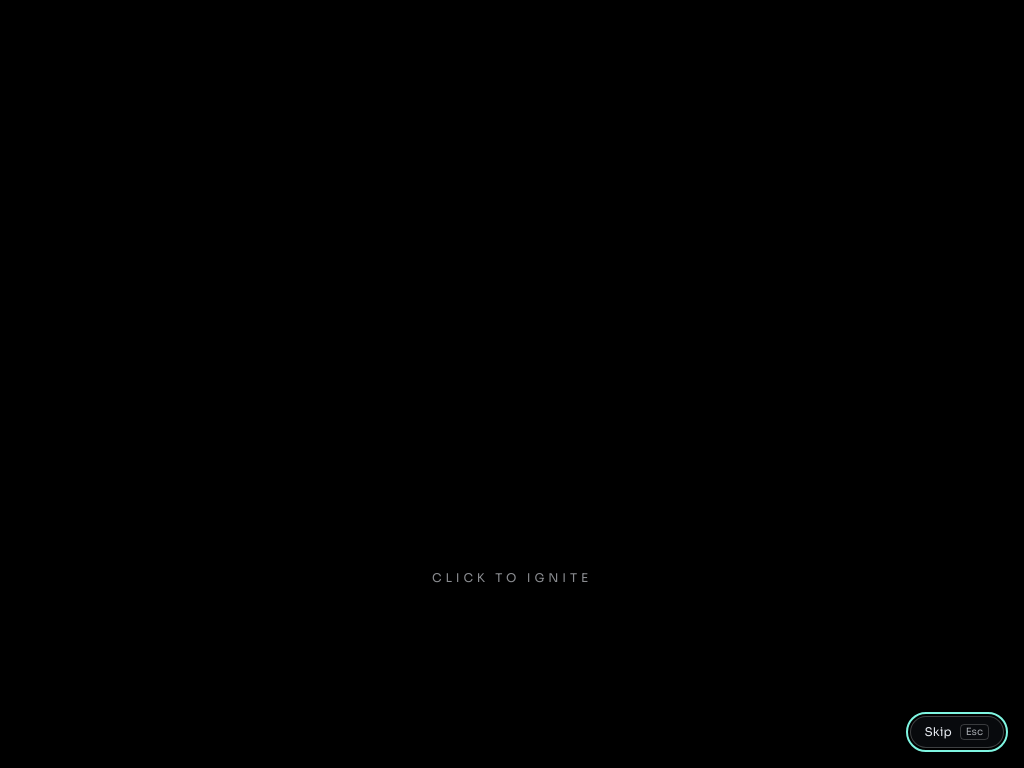
Test: IgnitionIntro › a click ignites it with synthesised sound, and the AudioContext is closed on unmount
Later steps or results of the test are not shown.
Step 1. Click the dialog named "Opening animation" → (512, 384), box [0,0,1023,767]
Wait 2000 ms
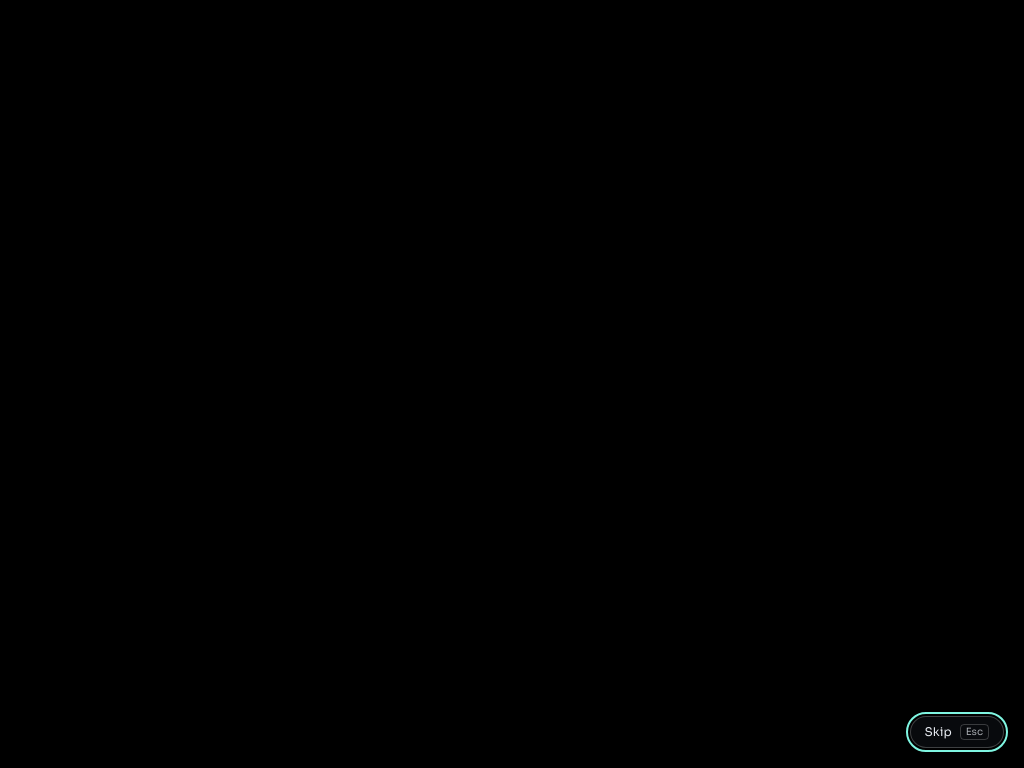
Expected: the dialog named "Opening animation" has attribute data-phase="run"
